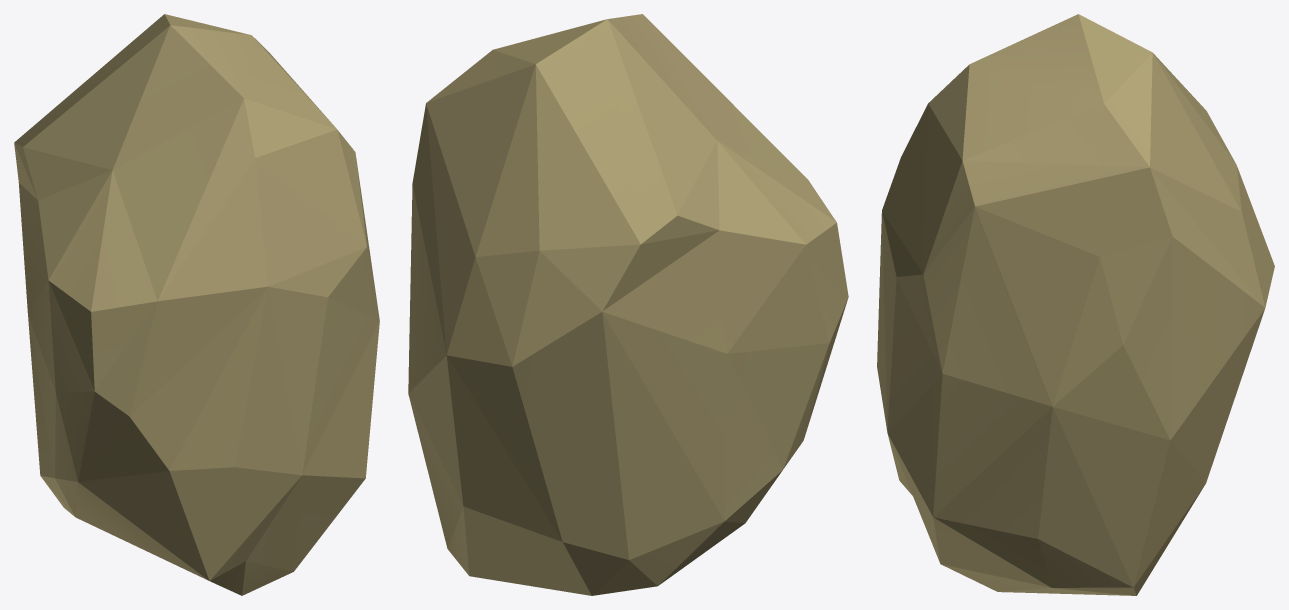
Rendered from SM_small_rock_24.fbx.
3 renders of one model, left to right at view 1: azimuth 30°, elevation 25°; view 2: azimuth 150°, elevation 25°; view 3: azimuth 270°, elevation 25°, orthographic. The views are drawn at different scales.
Parts seen in each view (by area): view 1: small_rock_24; view 2: small_rock_24; view 3: small_rock_24.
Boxes of the visible parts, bbox=[...] form: small_rock_24: bbox=[14, 14, 379, 595]; small_rock_24: bbox=[408, 14, 848, 595]; small_rock_24: bbox=[877, 14, 1274, 595].
Bounding box in the file's own units: 96.62 × 157 × 101.
